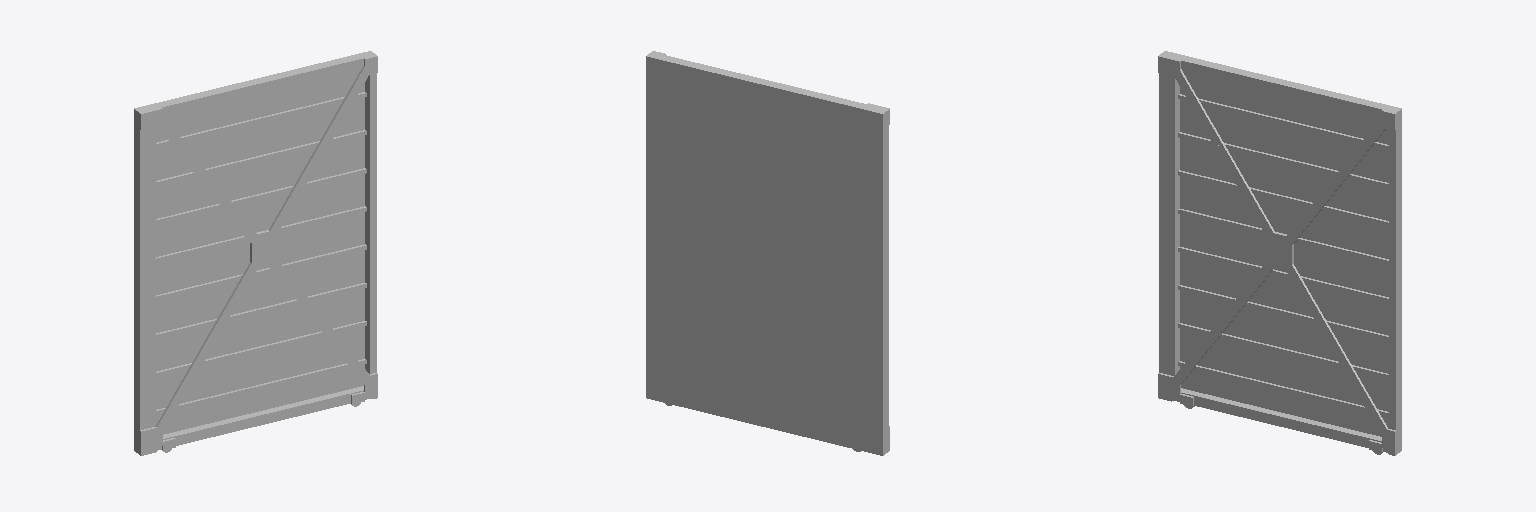
File: b_door_l2.obj
3 views of the same model, side by side, from view 1: azimuth 30°, elevation 25°; view 2: azimuth 150°, elevation 25°; view 3: azimuth 330°, elevation 25° (orthographic).
Size of the model in its own units: 1073 by 1502 by 58.95.